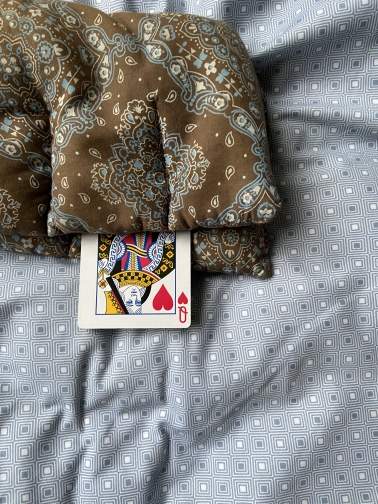queen: (76, 160, 194, 330)
